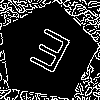E: (22, 27, 74, 83)
